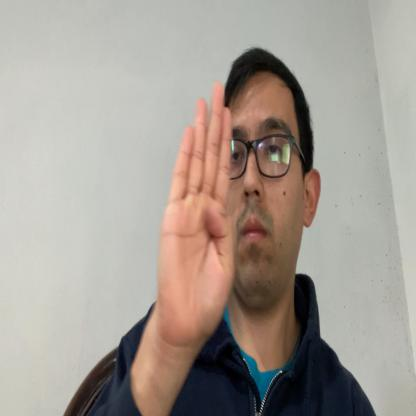B: (157, 80, 236, 346)
